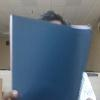notebook: (9, 13, 93, 99)
